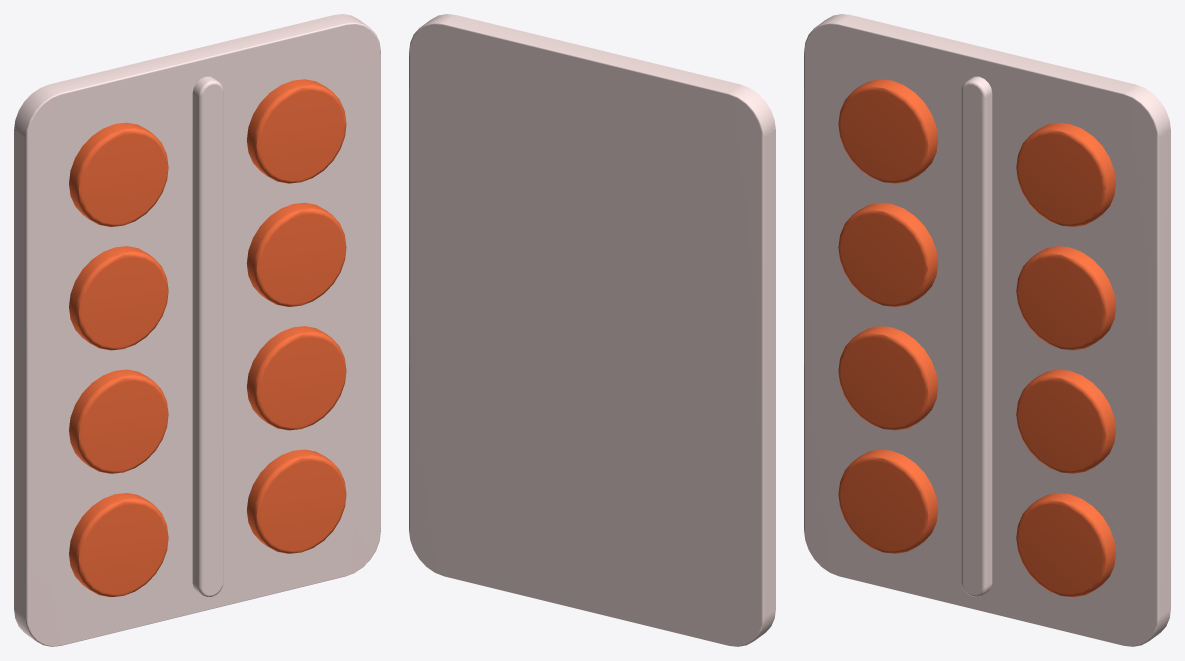
File: Store_15_Pill_Pack_1.glb
3 renders of one model, left to right at view 1: azimuth 30°, elevation 25°; view 2: azimuth 150°, elevation 25°; view 3: azimuth 330°, elevation 25°, orthographic.
Visible parts, largest first — view 1: Store_15_Pill_Pack_1; view 2: Store_15_Pill_Pack_1; view 3: Store_15_Pill_Pack_1.
Part boxes in pixels (box(x1,y1,x2,y2)): Store_15_Pill_Pack_1: box(14, 14, 380, 646); Store_15_Pill_Pack_1: box(409, 14, 775, 646); Store_15_Pill_Pack_1: box(804, 14, 1170, 646).
Bounding box in the file's own units: 2.66 × 3.95 × 0.291.
Materials: 1 (1 with a texture image).
